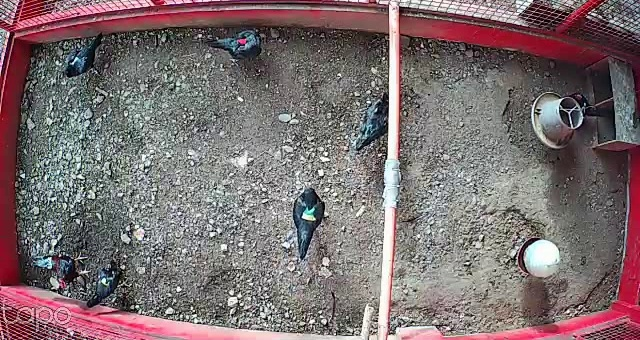Chicken: (292, 182, 333, 261), (199, 25, 268, 70), (55, 34, 109, 81), (88, 260, 133, 313), (354, 91, 393, 149), (568, 87, 607, 122)
Rooster: (29, 249, 91, 298)
Saddle_Color_Red: (237, 38, 249, 45)
Saddle_Color_White: (71, 56, 82, 65)
Saddle_Color_Yellow: (99, 279, 111, 285)
Saddle_Color_YellowGreen: (300, 207, 319, 224)
